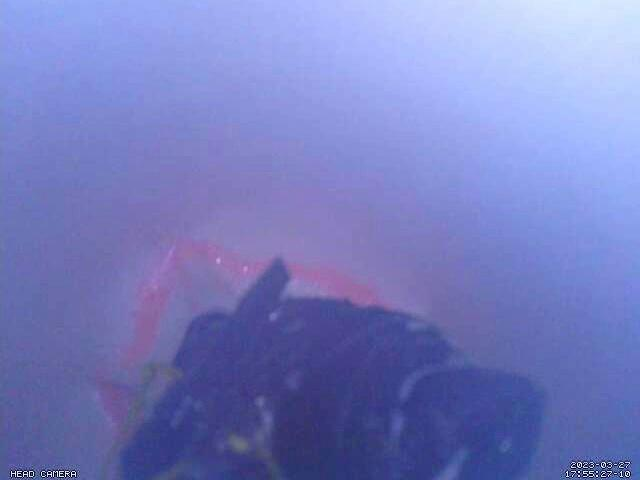head: (92, 236, 394, 440)
